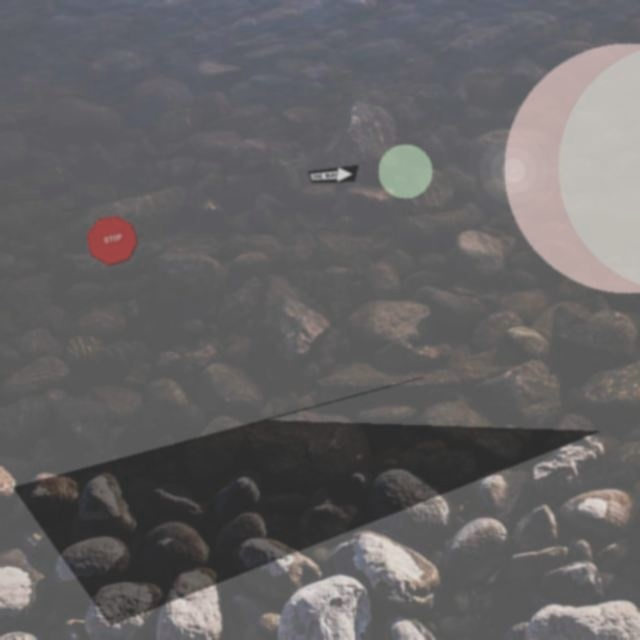ONE_WAY_ right: (307, 164, 359, 183)
STOP: (86, 215, 138, 266)
